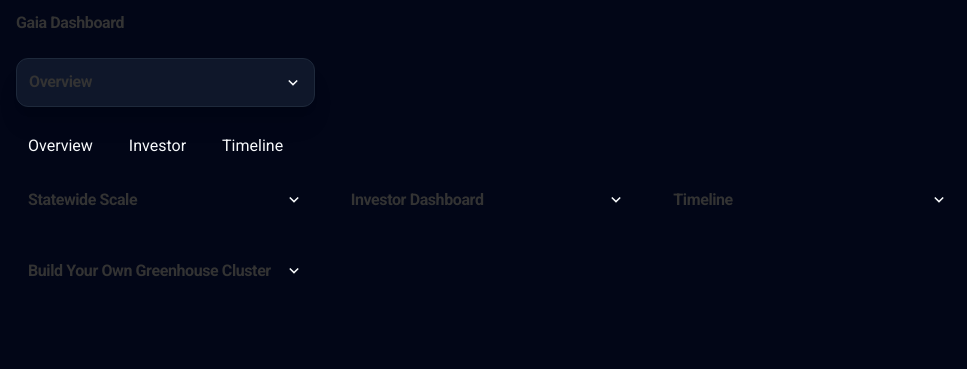
Test: Dashboard page — Timeline section › renders timeline events when data is provided
Click the 4th button "Expand".
click(939, 200)  # box [930,191,948,209]
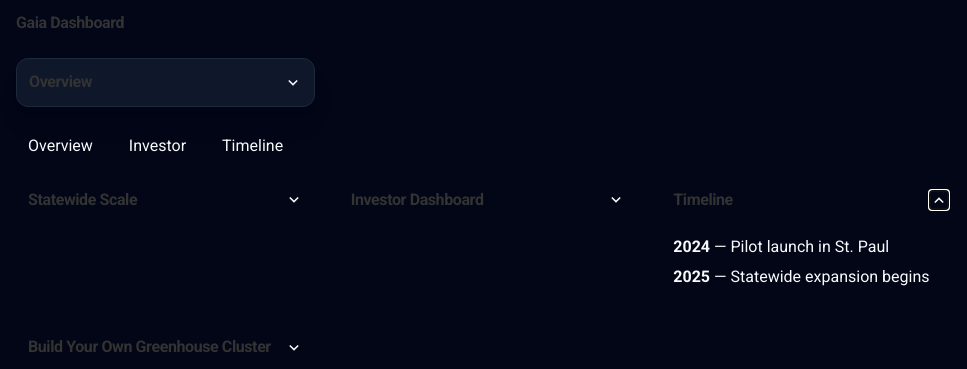
Now the text "2024 — Pilot launch in St. Paul" is shown, box [673,237,889,256]
Now the text "2025 — Statewide expansion begins" is shown, box [673,266,948,288]
